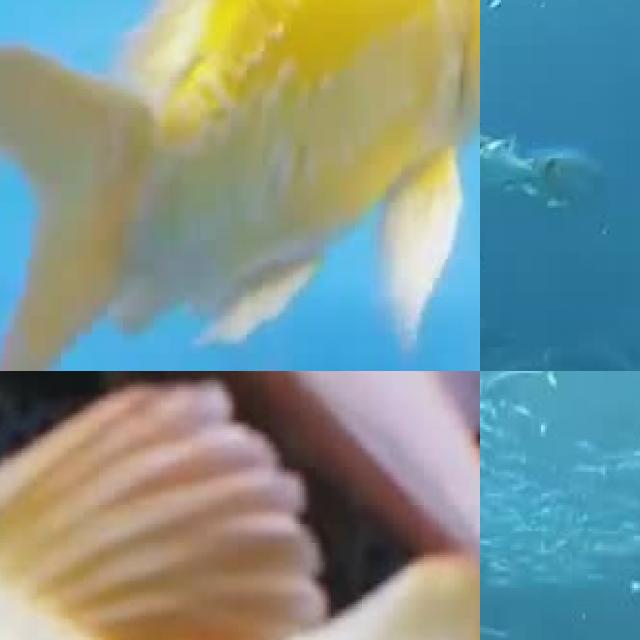fish: (0, 0, 480, 371), (0, 462, 480, 640)
